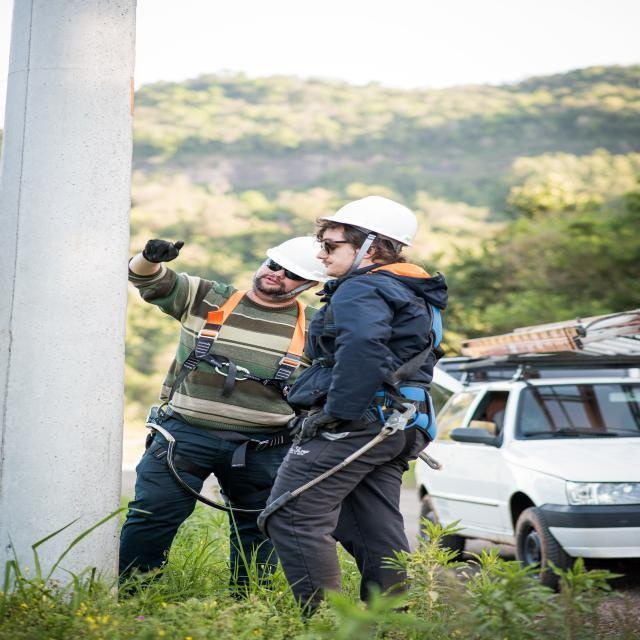Arnes_seguridad: (150, 286, 323, 480)
